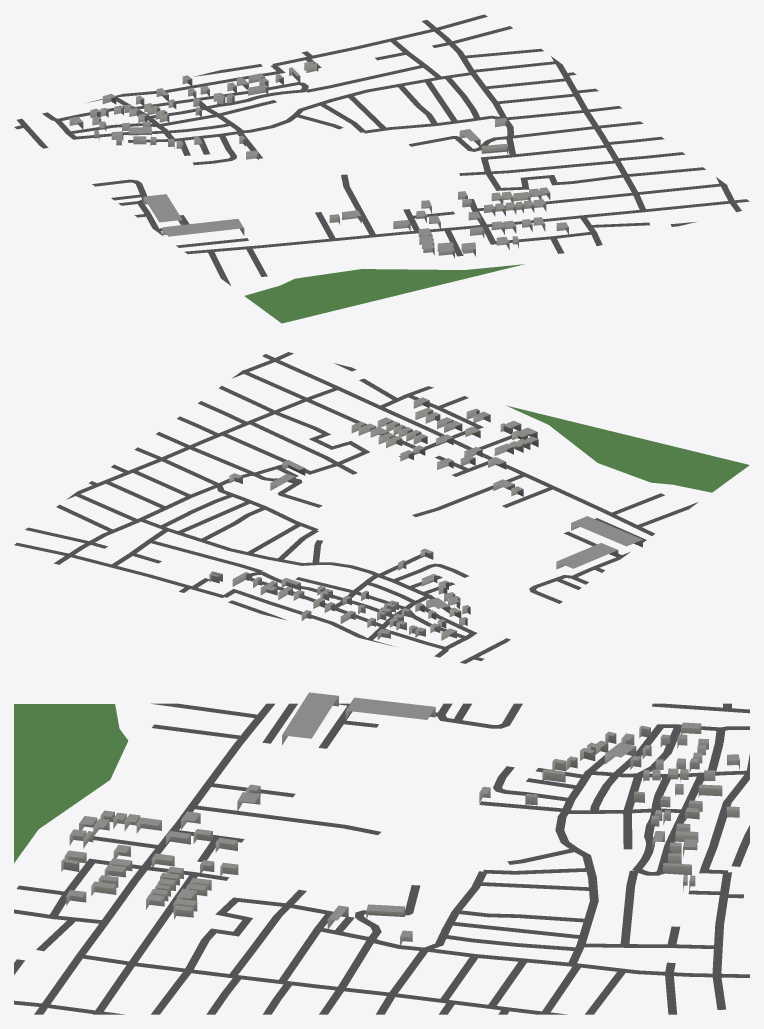
The picture shows the model from 3 angles, top to bottom: view 1: azimuth 30°, elevation 25°; view 2: azimuth 150°, elevation 25°; view 3: azimuth 270°, elevation 25°; orthographic projection. The views are drawn at different scales.
Visible parts, largest first — view 1: ground, building; view 2: ground, building; view 3: ground, building.
Part boxes in pixels (bbox=[...]): ground: bbox=[14, 14, 749, 323]; building: bbox=[69, 61, 568, 258]; ground: bbox=[14, 352, 749, 663]; building: bbox=[209, 397, 642, 640]; ground: bbox=[14, 703, 749, 1014]; building: bbox=[61, 692, 739, 945].
Size of the model in its own units: 504 by 8 by 500.
